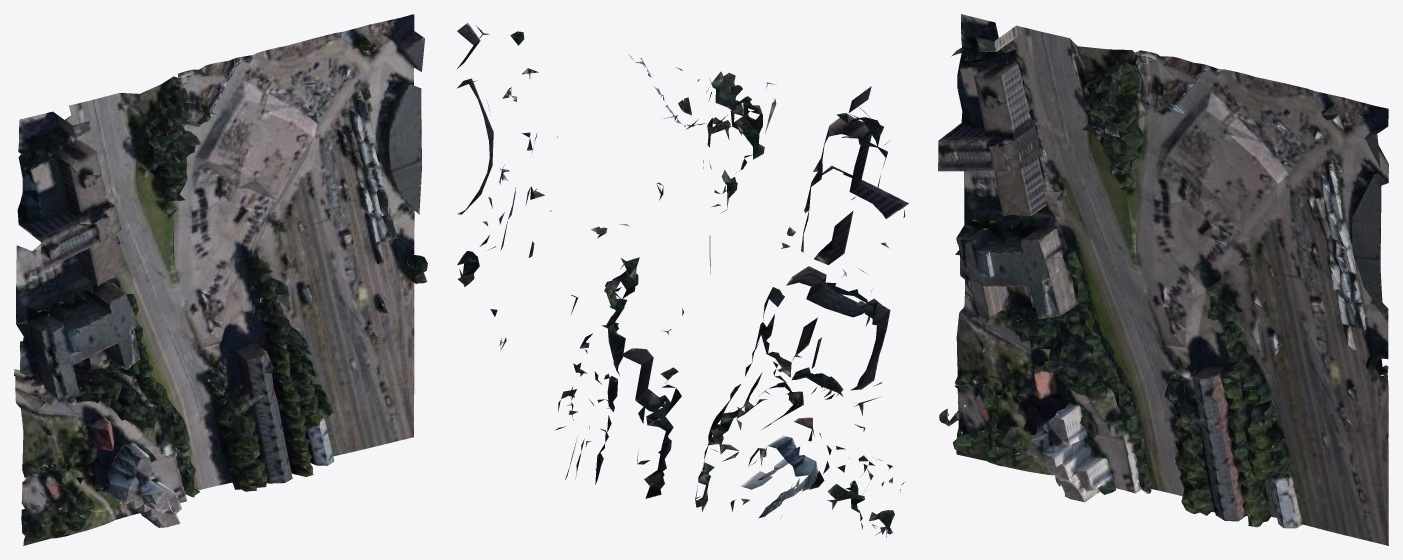
The model's file is Tile_+031_+032_L16_000.glb.
The picture shows the model from 3 angles, left to right: view 1: azimuth 30°, elevation 25°; view 2: azimuth 150°, elevation 25°; view 3: azimuth 330°, elevation 25°; orthographic projection. The views are drawn at different scales.
Size of the model in its own units: 250 by 250 by 42.18.
1 material, 1 textured.
